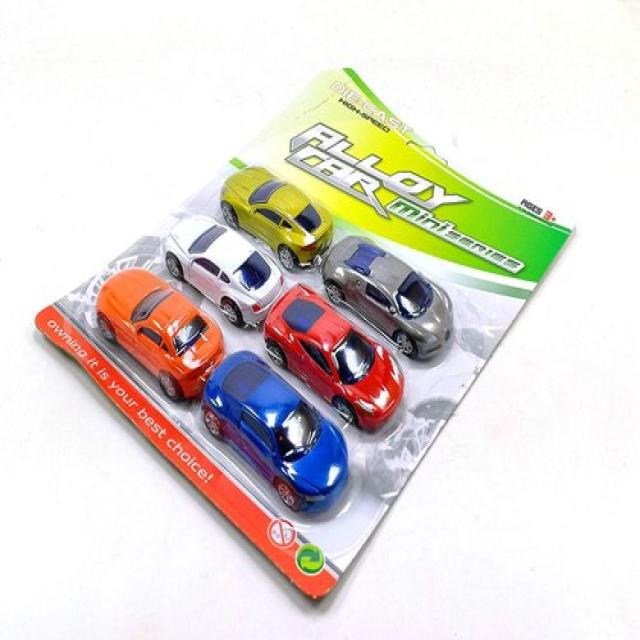Car: (200, 349, 348, 514), (262, 281, 404, 432), (95, 266, 225, 402), (319, 234, 453, 360), (162, 213, 286, 330), (219, 165, 333, 271)
